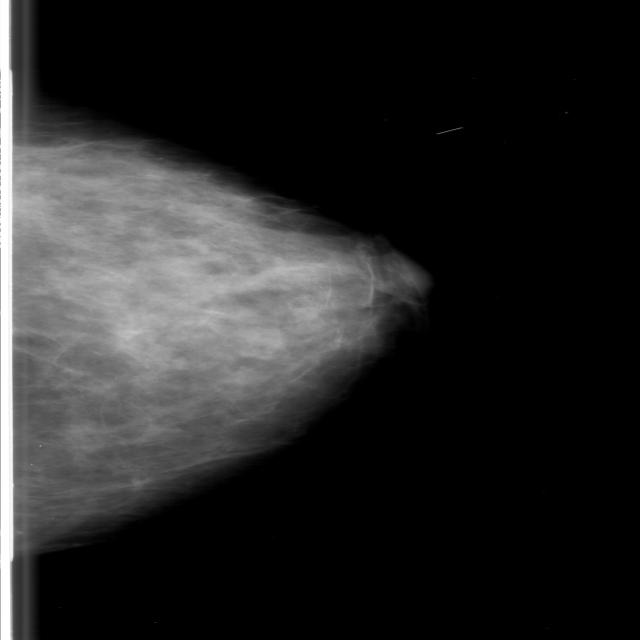normal: (0, 106, 502, 545)
